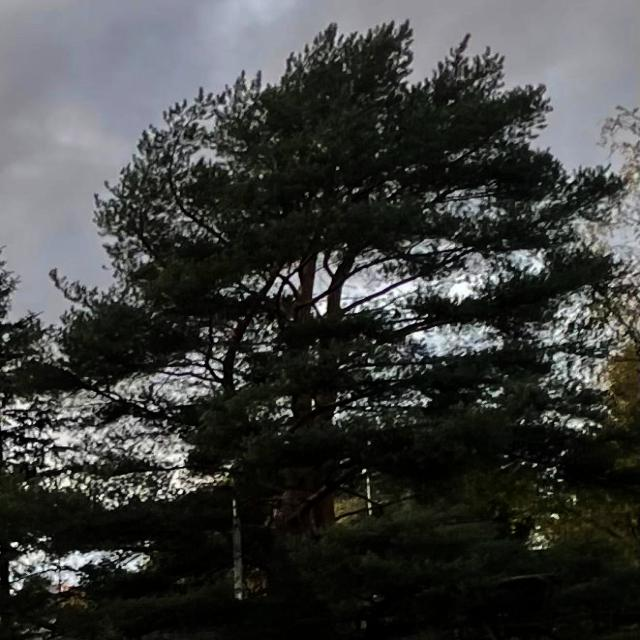pine: (8, 4, 630, 640)
